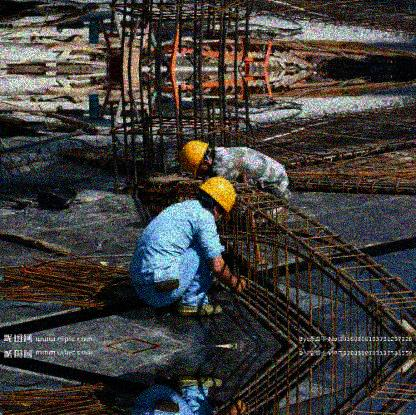helmet: (198, 177, 235, 227), (179, 140, 215, 184)
